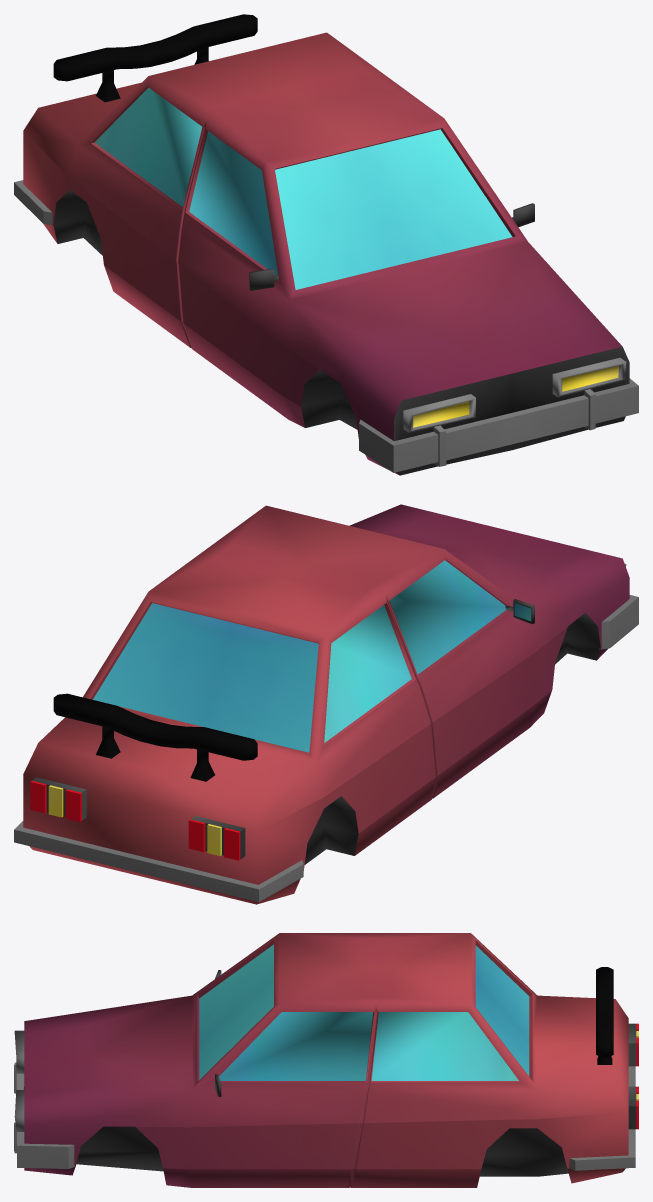
The model's file is Car_4.fbx.
3 views of the same model, one above another, from view 1: azimuth 30°, elevation 25°; view 2: azimuth 150°, elevation 25°; view 3: azimuth 270°, elevation 25° (orthographic). The views are drawn at different scales.
Visible parts, largest first — view 1: Car_4; view 2: Car_4; view 3: Car_4.
Part boxes in pixels (<box>): Car_4: <box>14,14,638,475</box>; Car_4: <box>14,504,638,904</box>; Car_4: <box>14,933,638,1187</box>.
Bounding box in the file's own units: 246 × 176 × 575.
1 material, 1 textured.
